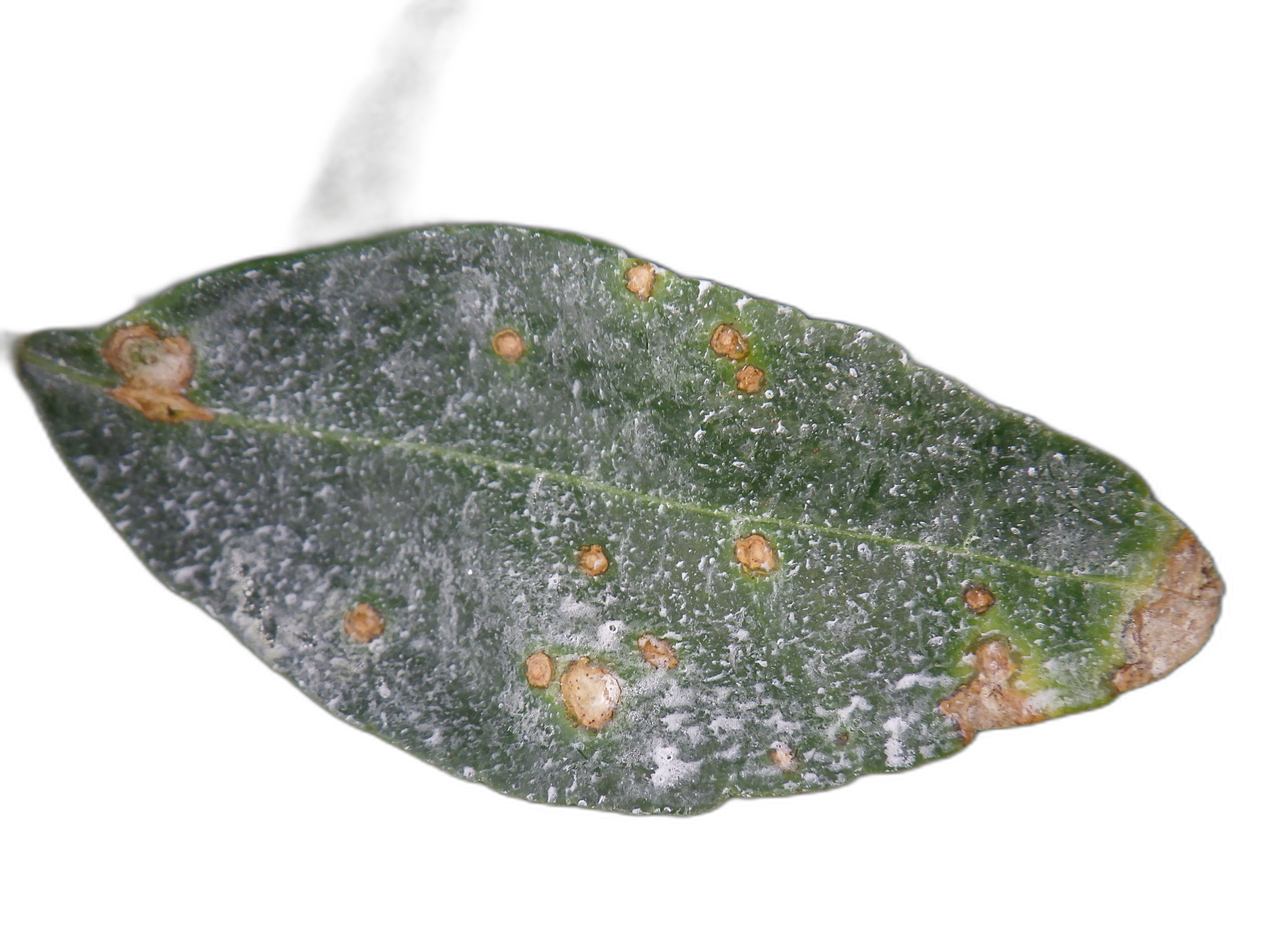Canker: (1112, 530, 1223, 692), (939, 639, 1048, 743), (103, 324, 213, 423), (562, 656, 621, 734), (343, 602, 384, 643), (709, 320, 750, 361), (734, 532, 775, 571), (636, 632, 677, 669), (623, 262, 659, 299), (524, 651, 554, 690), (962, 584, 997, 615), (576, 545, 609, 577), (493, 329, 525, 362), (736, 363, 765, 393), (769, 741, 795, 768)
